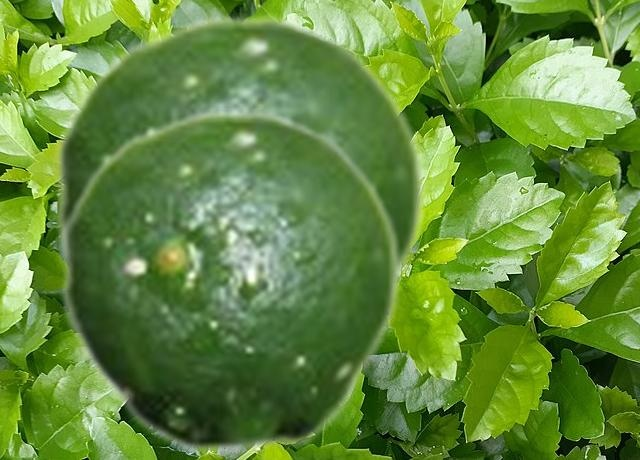calamansi: (59, 108, 402, 455), (53, 13, 427, 293)
